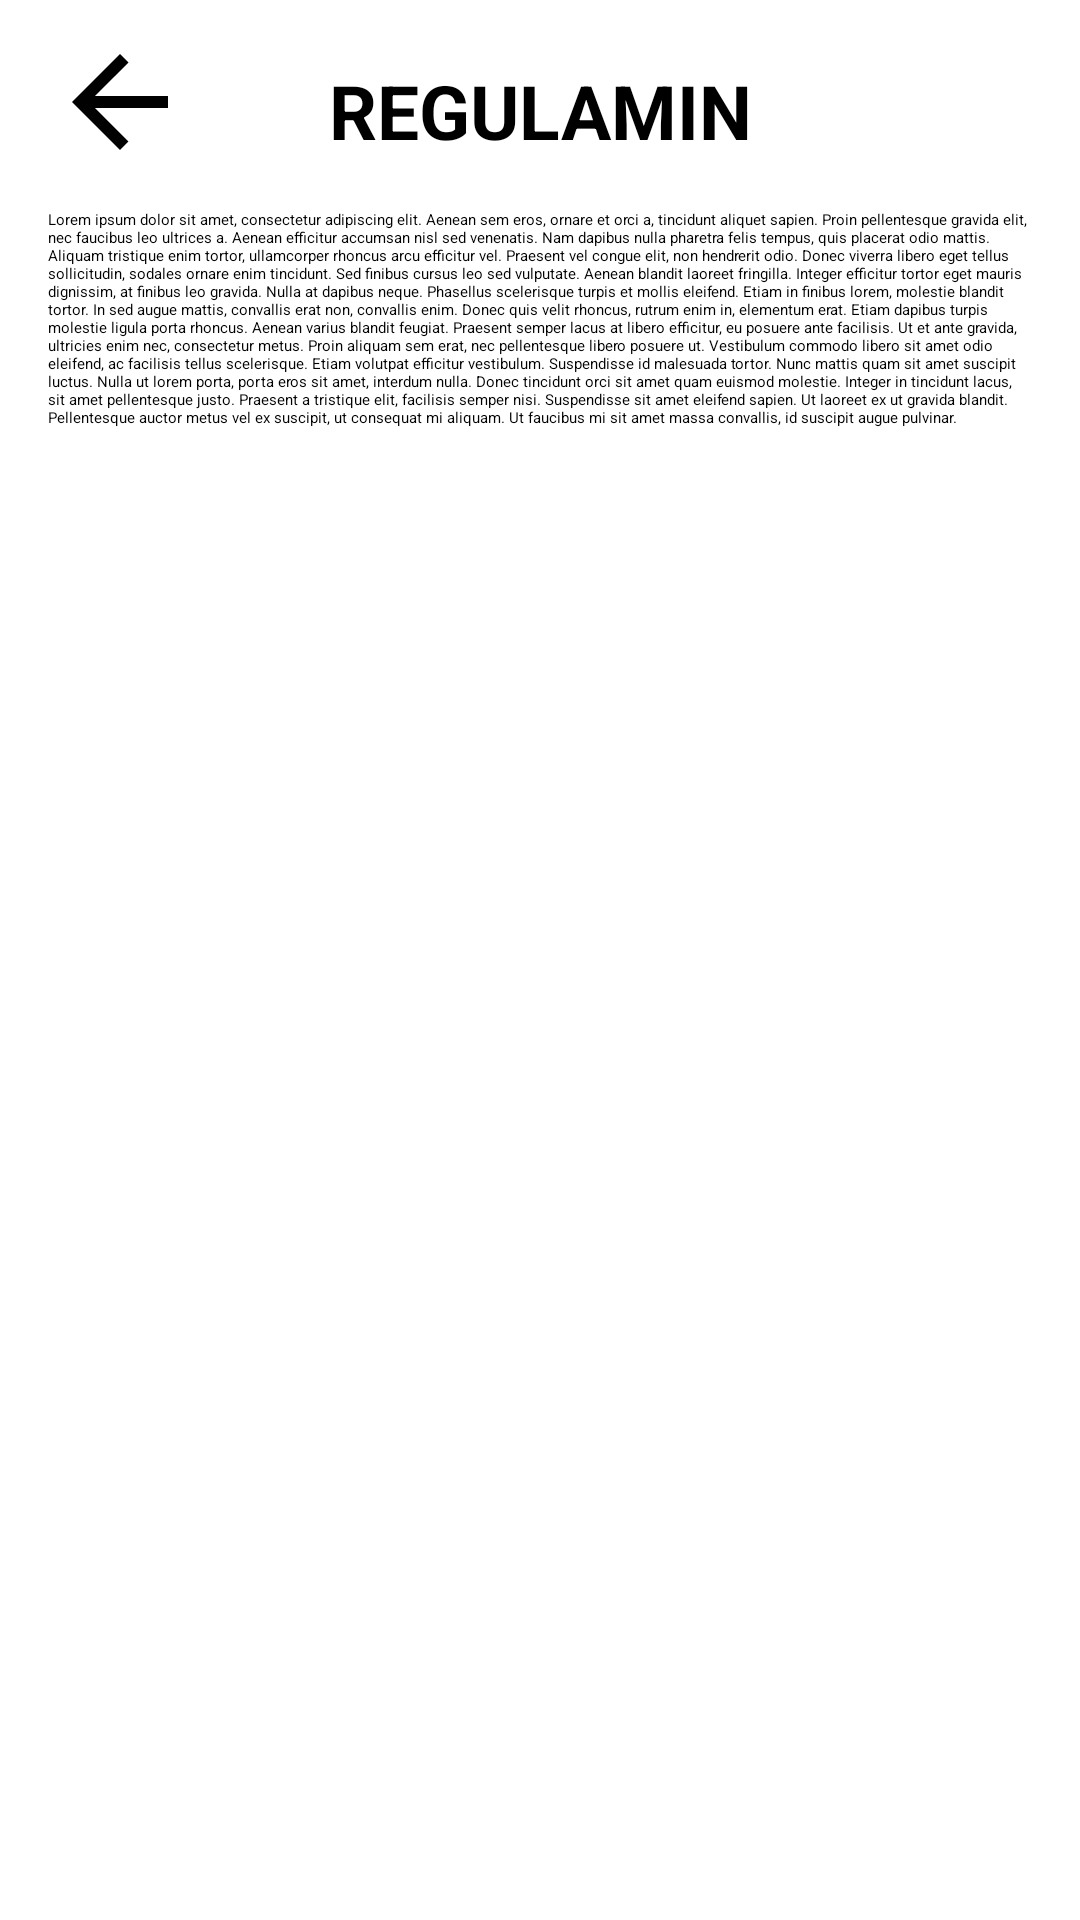

Screen size 1080w x 1920h. Icon name, then its center in pixels as point (x, y):
arrow back: point (120, 102)
